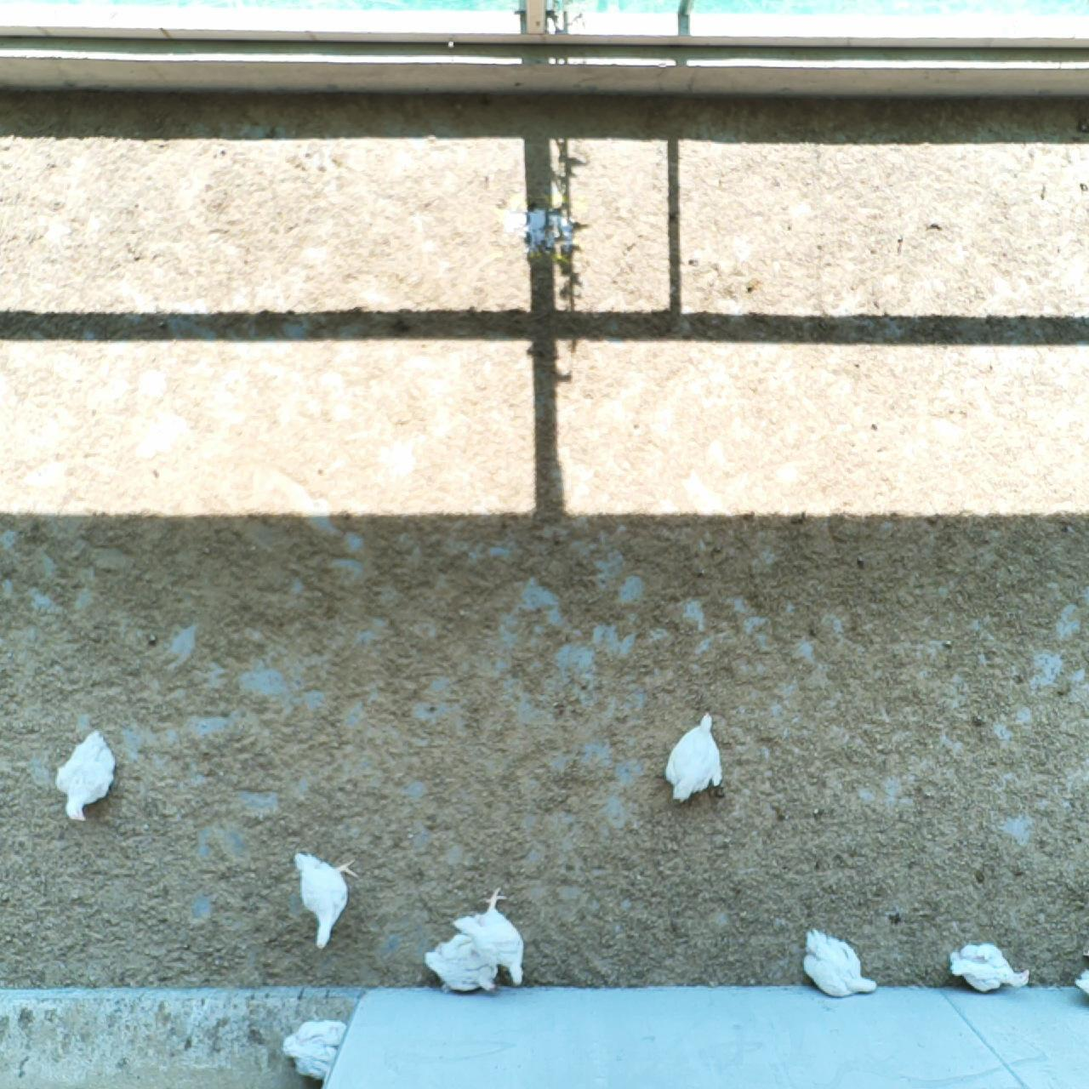chicken: (453, 885, 523, 985), (291, 851, 359, 949), (53, 730, 115, 823), (802, 927, 879, 1000), (662, 713, 725, 802), (281, 1018, 349, 1089), (424, 934, 502, 994), (949, 942, 1031, 994), (1074, 966, 1089, 998)
